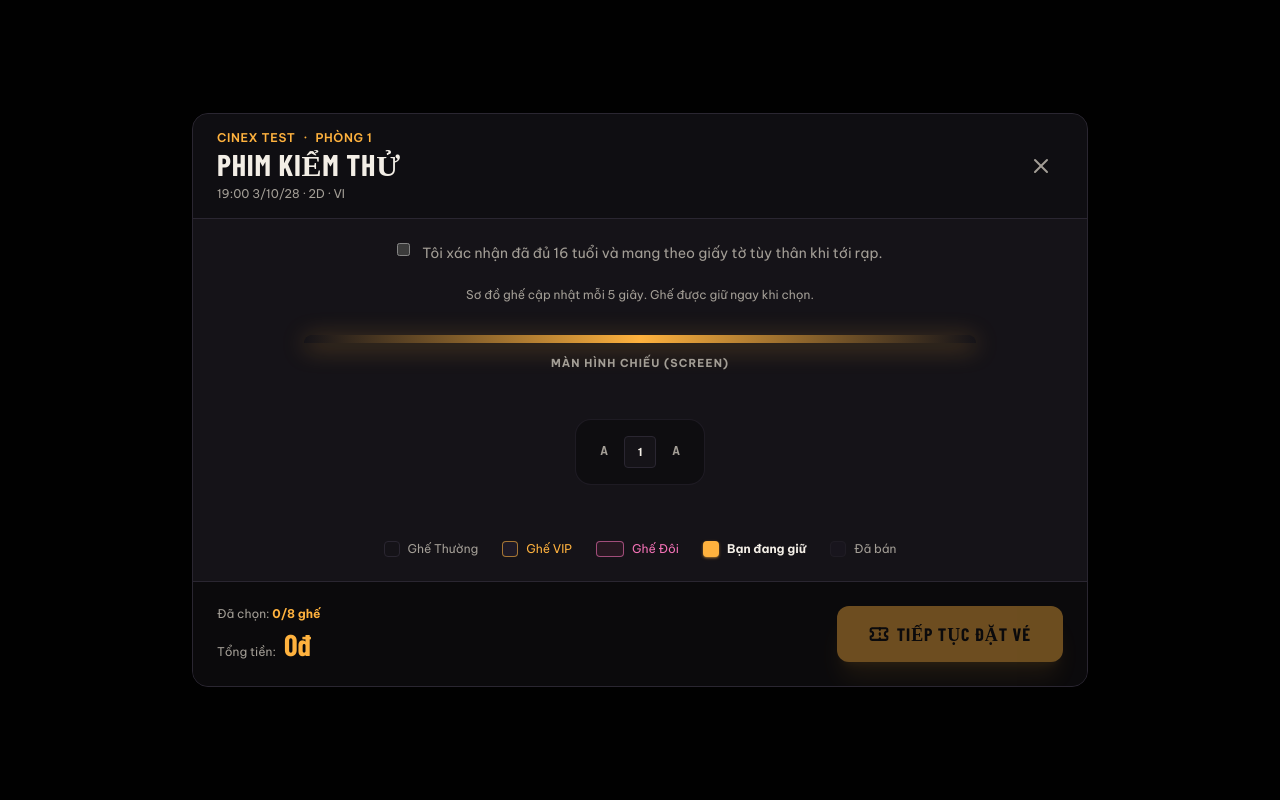
Test: Seat selection with persisted holds › holds immediately, uses server price, and releases the last deselected seat
Check: the button named "Ghế A1 loại STANDARD" is shown, box [624,436,656,468]
Click the checkbox: x=404, y=249 [397,243,410,256]
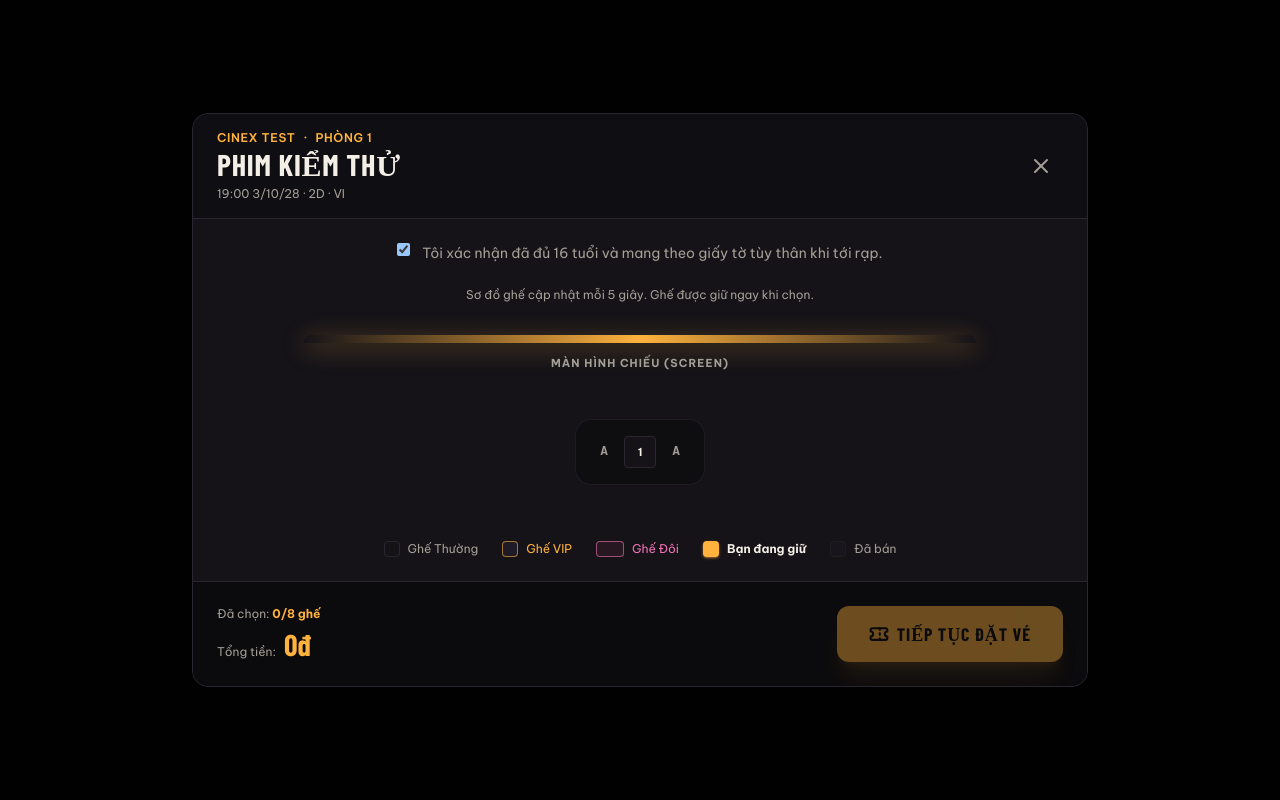
Click the button named "Ghế A1 loại STANDARD": x=640, y=452 [624,436,656,468]
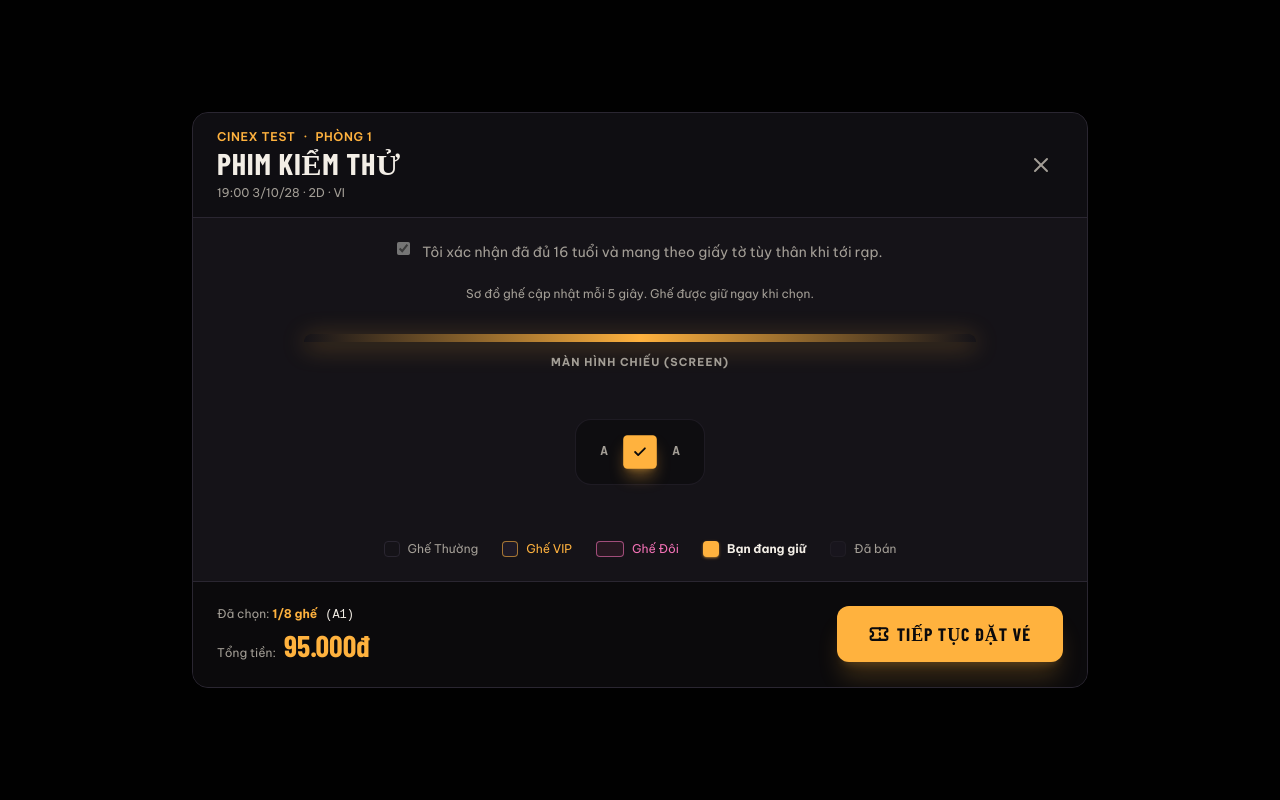
Check: the text "1/8 ghế" is shown, box [272,606,317,621]
Check: the text "95.000đ" is shown, box [284,627,370,663]
Click the button named "Ghế A1 loại STANDARD": x=640, y=452 [623,435,657,469]
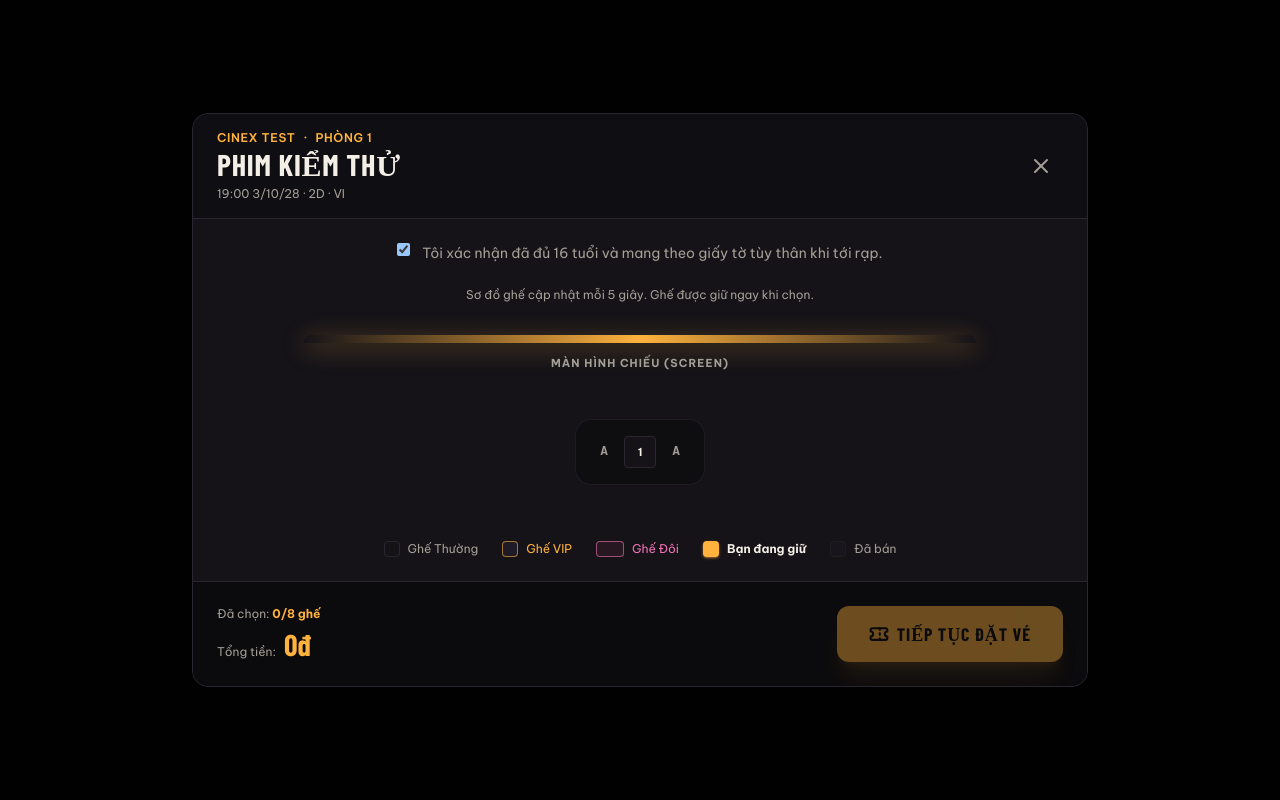
Check: the text "0/8 ghế" is shown, box [272,606,320,621]
